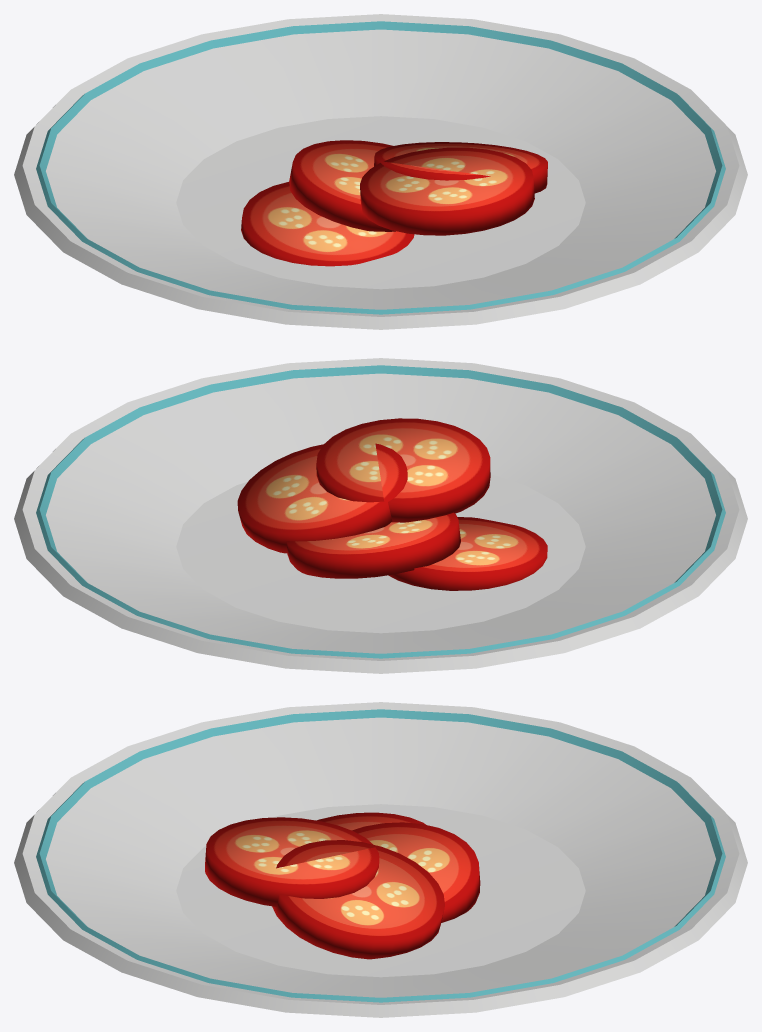
The model's file is kr_p_tomato.glb.
The picture shows the model from 3 angles, top to bottom: view 1: azimuth 30°, elevation 25°; view 2: azimuth 150°, elevation 25°; view 3: azimuth 270°, elevation 25°; orthographic projection.
Visible parts, largest first — view 1: vc_m0_r2, kr_p_tomato_f_tomslice, vc_m0_r4; view 2: vc_m0_r2, kr_p_tomato_f_tomslice, vc_m0_r4; view 3: vc_m0_r2, kr_p_tomato_f_tomslice, vc_m0_r4.
Boxes of the visible parts, bbox=[...] form: vc_m0_r2: bbox=[14, 14, 747, 329]; kr_p_tomato_f_tomslice: bbox=[241, 140, 547, 266]; vc_m0_r4: bbox=[36, 21, 725, 314]; vc_m0_r2: bbox=[14, 358, 747, 673]; kr_p_tomato_f_tomslice: bbox=[237, 418, 547, 590]; vc_m0_r4: bbox=[36, 365, 725, 658]; vc_m0_r2: bbox=[14, 702, 747, 1017]; kr_p_tomato_f_tomslice: bbox=[205, 812, 480, 959]; vc_m0_r4: bbox=[36, 709, 725, 1002].
Size of the model in its own units: 0.43 by 0.053 by 0.43.
Materials: 3 (1 with a texture image).
